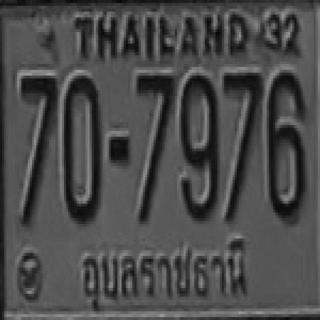N00: (62, 74, 100, 220)
N06: (266, 70, 305, 218)
N07: (136, 73, 174, 221), (222, 70, 260, 215), (19, 74, 55, 217), (222, 70, 260, 195), (136, 73, 174, 198), (19, 74, 55, 188), (222, 70, 260, 163), (20, 76, 57, 163)
N09: (179, 73, 218, 218)
P72: (75, 238, 252, 313)
